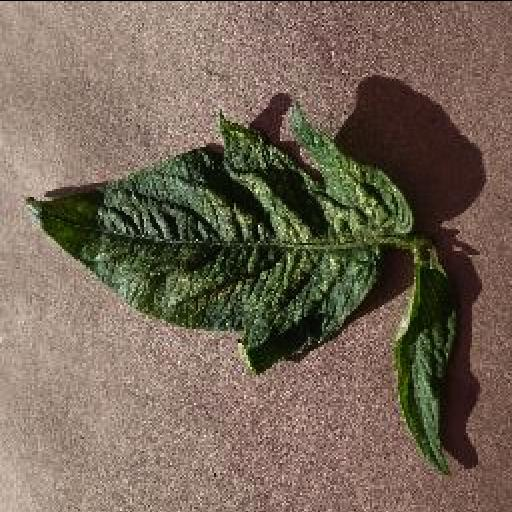disease_tomato: (27, 108, 413, 372)
